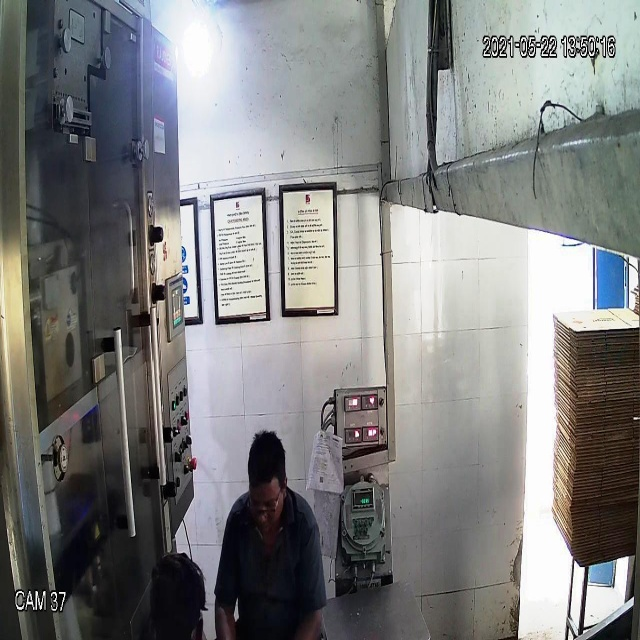Gafas: (247, 492, 282, 518)
